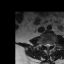CCS_normal: (47, 41, 48, 50)
LFS_stenosis: (50, 41, 53, 47)
LLS_normal: (48, 41, 50, 49)
RFS_stenosis: (43, 41, 45, 48)
RLS_normal: (45, 42, 47, 49)
